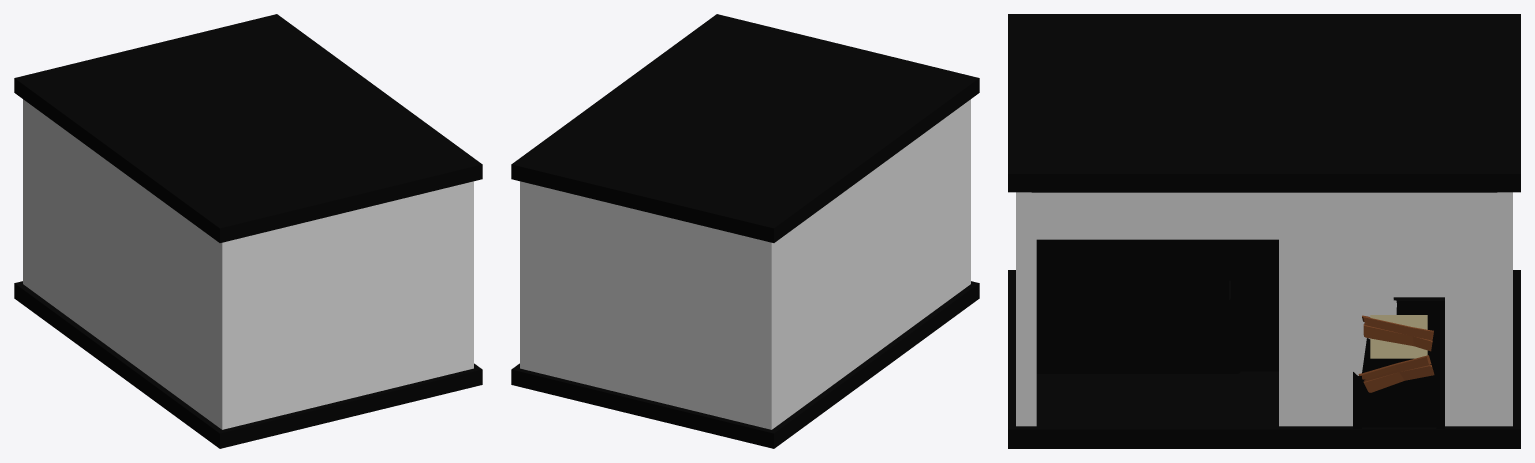
Rendered from Garage1.fbx.
The picture shows the model from 3 angles, left to right: view 1: azimuth 30°, elevation 25°; view 2: azimuth 150°, elevation 25°; view 3: azimuth 270°, elevation 25°; orthographic projection. The views are drawn at different scales.
Parts seen in each view (by area): view 1: Cube.001; view 2: Cube.001; view 3: Cube.001, Cube.002, Windows/Doors.001, Wooden Planks.001.
Boxes of the visible parts, x1=… form: Cube.001: x1=14, y1=14, x2=482, y2=448; Cube.001: x1=511, y1=14, x2=979, y2=448; Cube.001: x1=1008, y1=14, x2=1520, y2=448; Cube.002: x1=1036, y1=239, x2=1278, y2=373; Windows/Doors.001: x1=1353, y1=297, x2=1444, y2=428; Wooden Planks.001: x1=1358, y1=315, x2=1434, y2=392.
Bounding box in the file's own units: 1315 × 1053 × 1779.
5 materials, 2 textured.
